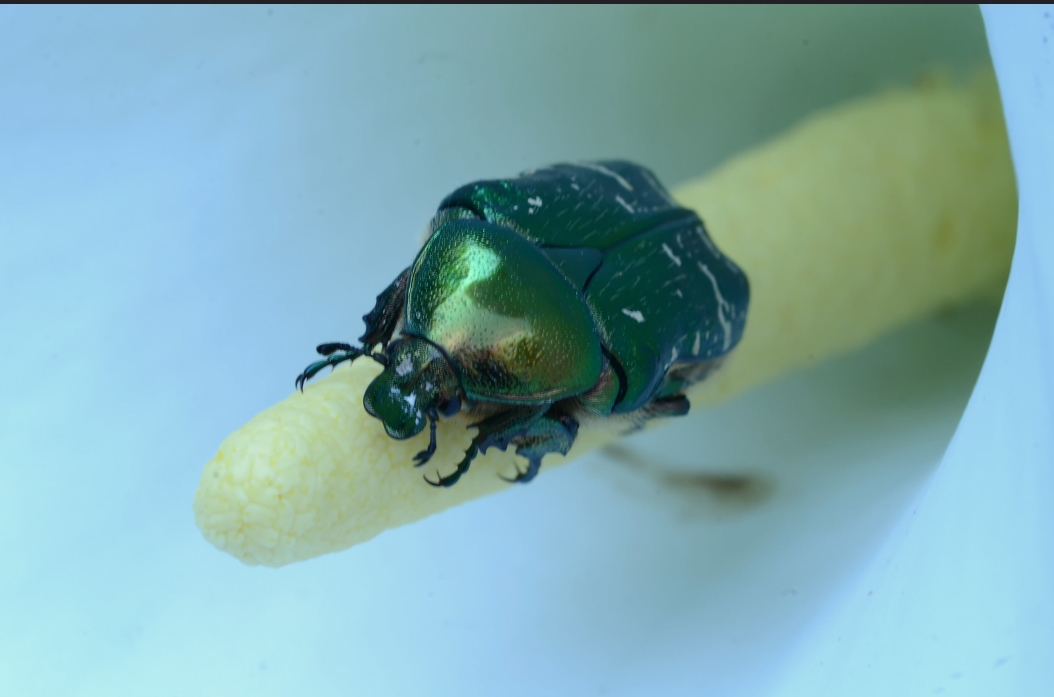Cetonia_aurata: (274, 145, 758, 504)
